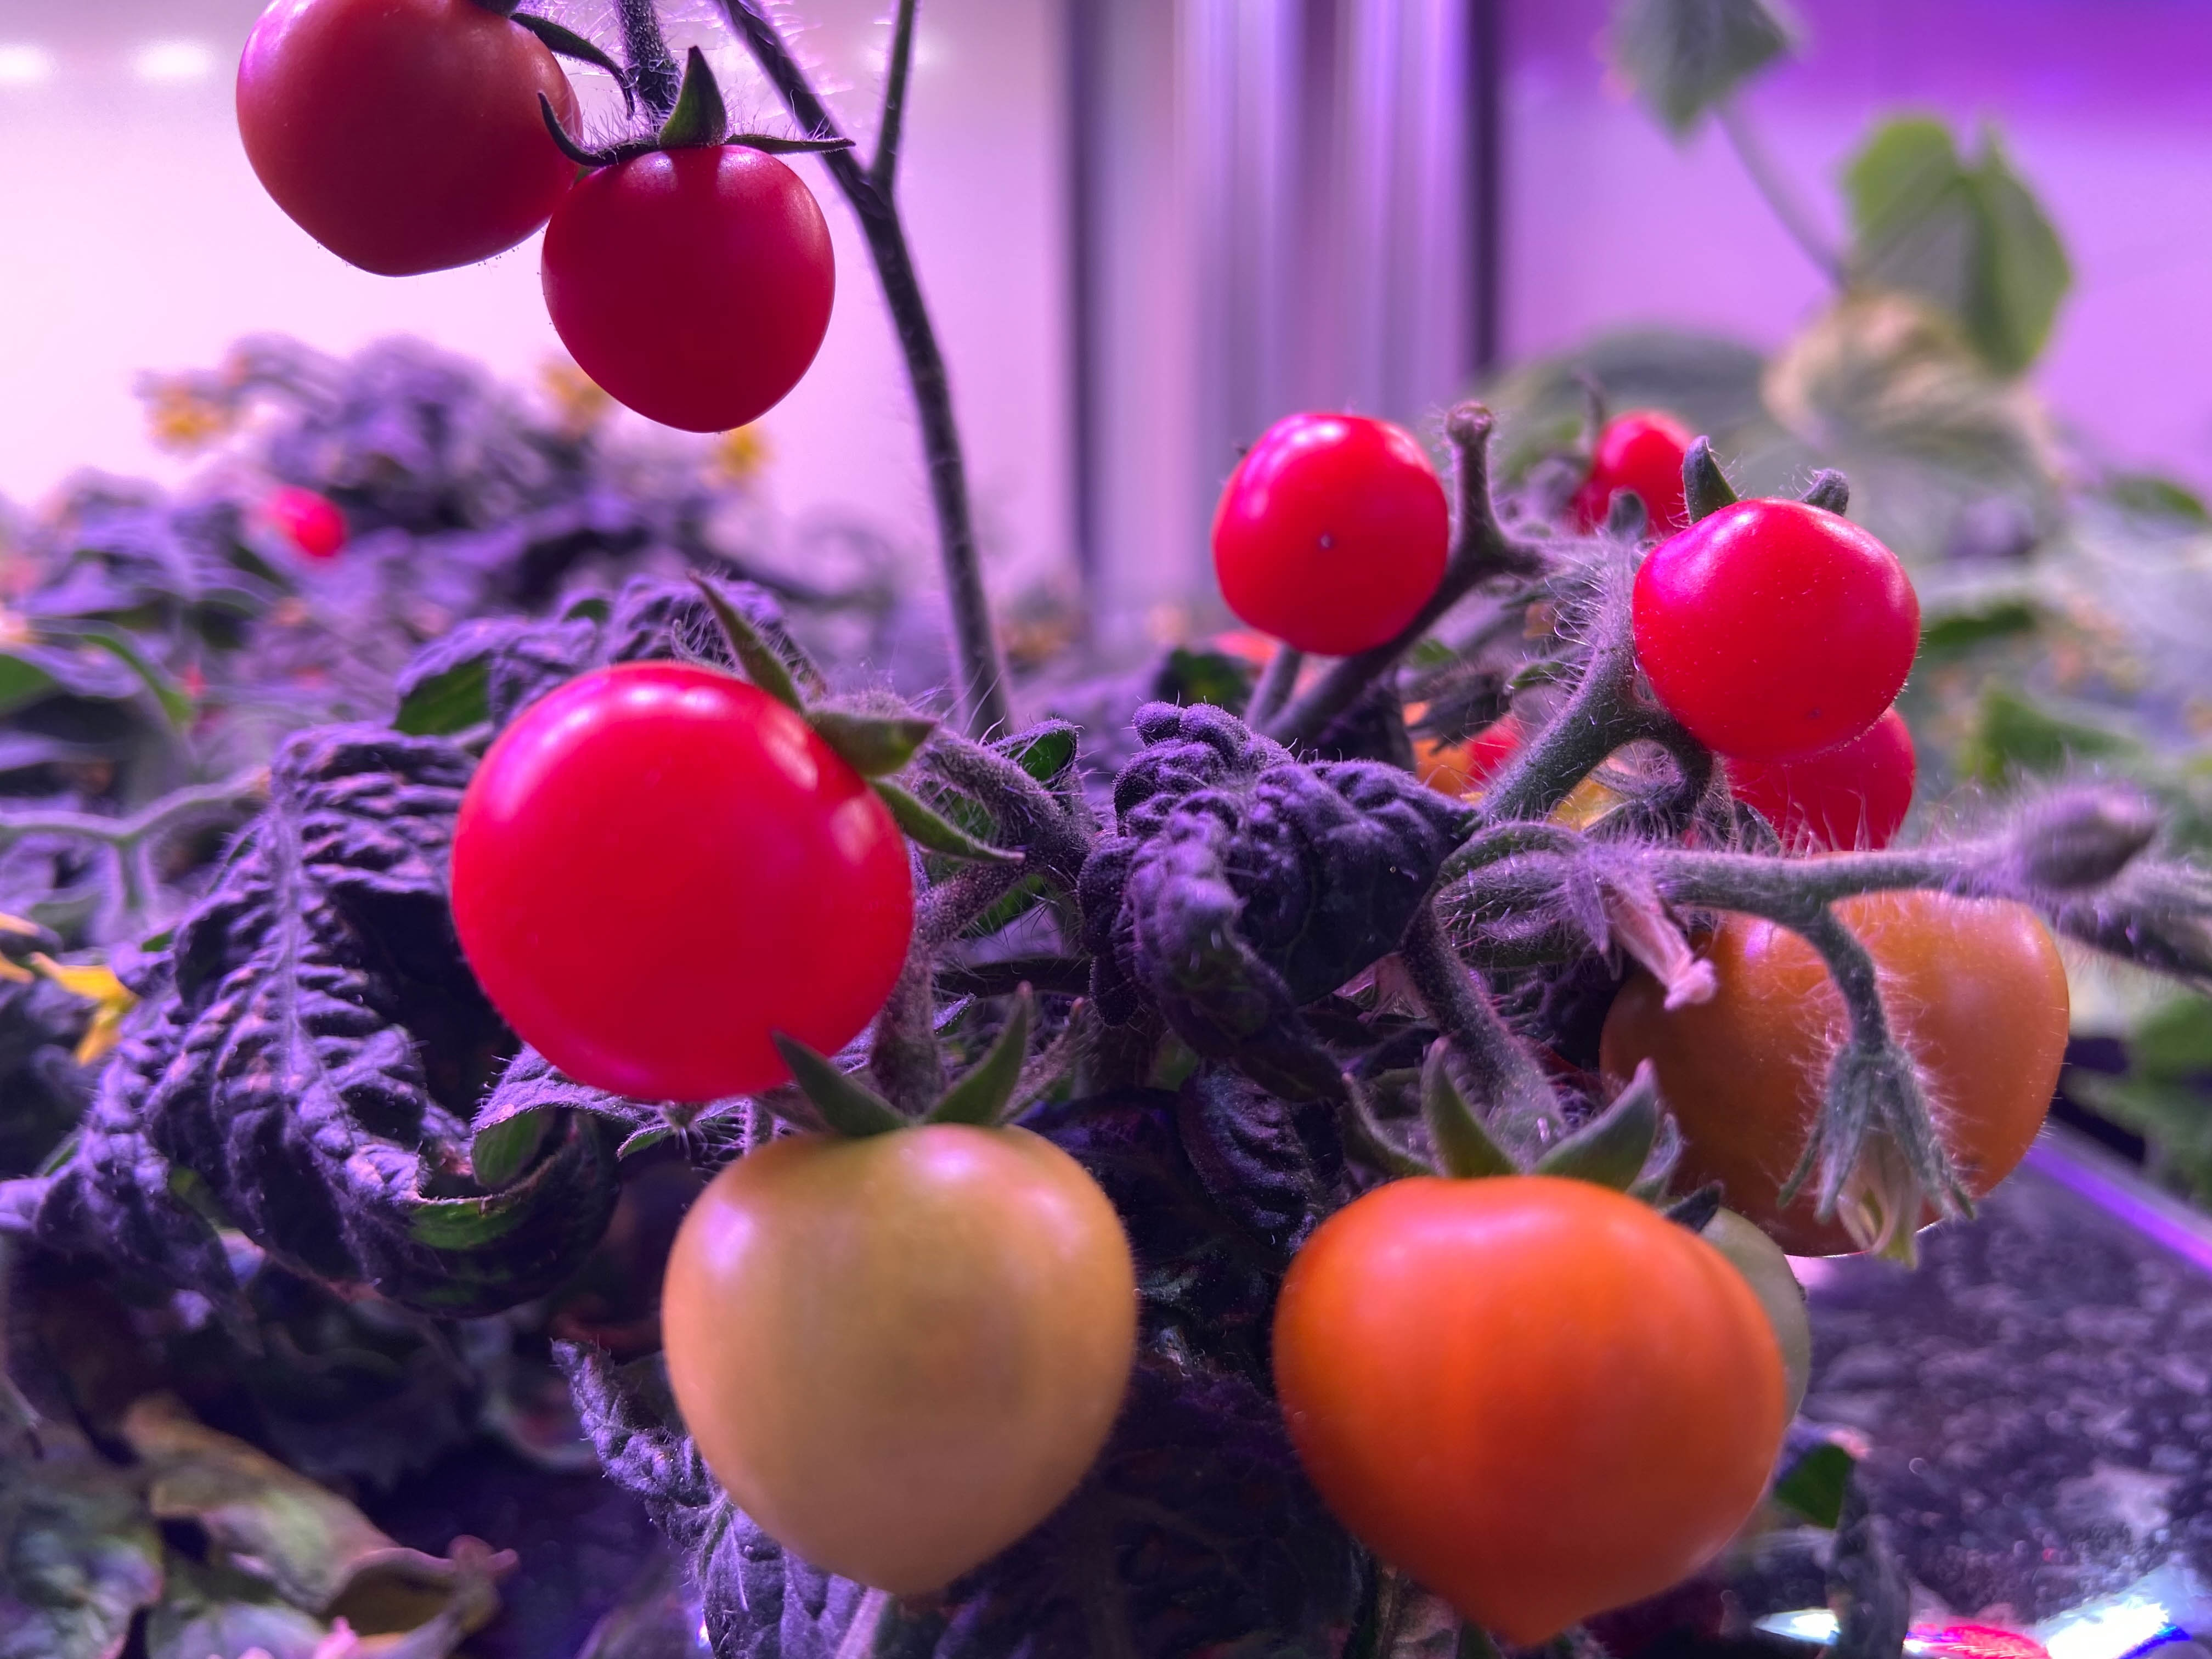red: (1270, 1150, 1797, 1643), (657, 1112, 1141, 1600), (448, 652, 913, 1108), (1627, 870, 2067, 1263), (232, 0, 583, 274), (540, 134, 843, 434), (1625, 460, 1925, 746), (1209, 410, 1454, 657), (1670, 676, 1926, 850), (1583, 410, 1695, 526), (249, 469, 366, 580)
